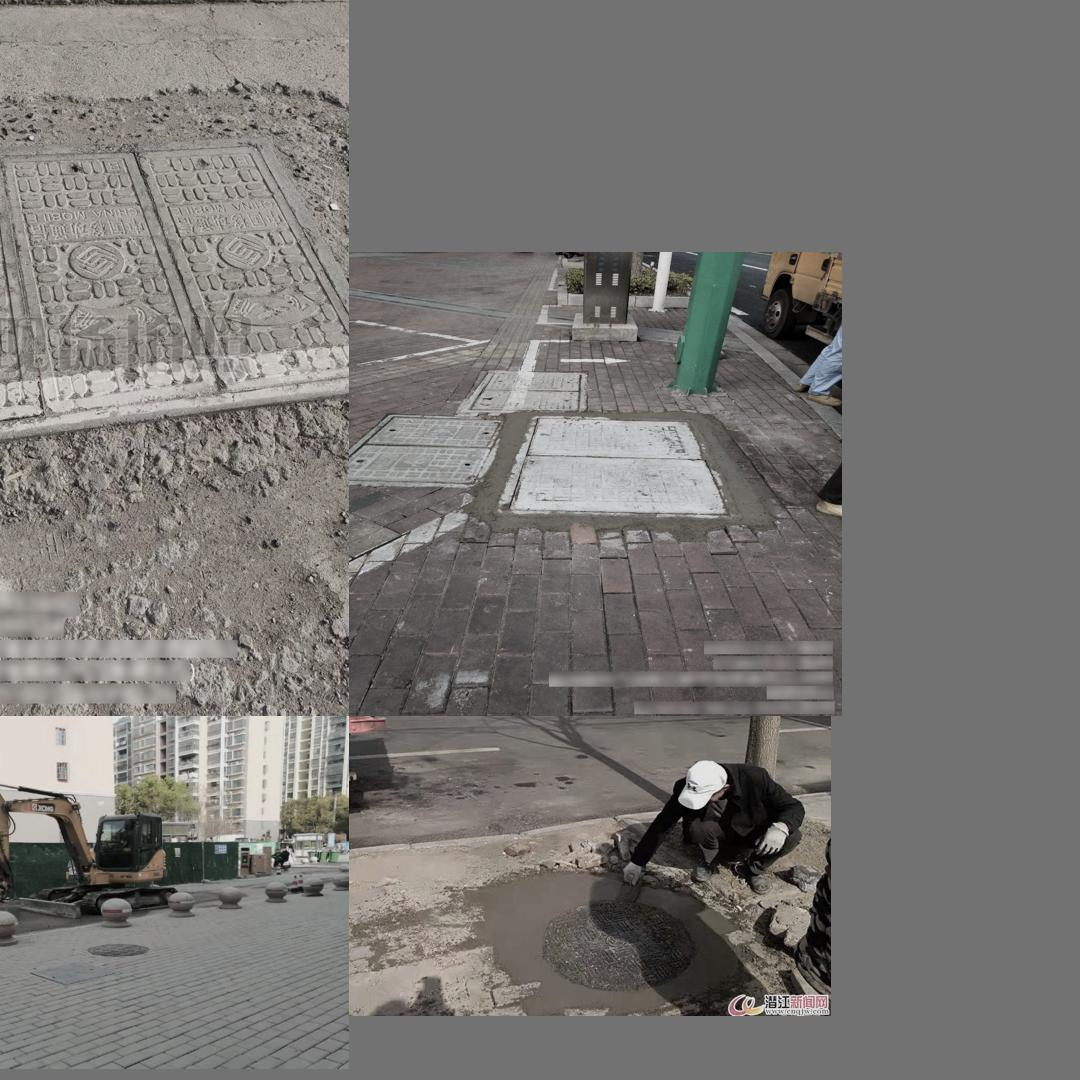good: (0, 136, 349, 456), (482, 868, 735, 1009), (494, 415, 742, 518), (349, 413, 508, 488), (459, 369, 589, 415), (26, 960, 123, 984), (87, 944, 149, 956)
